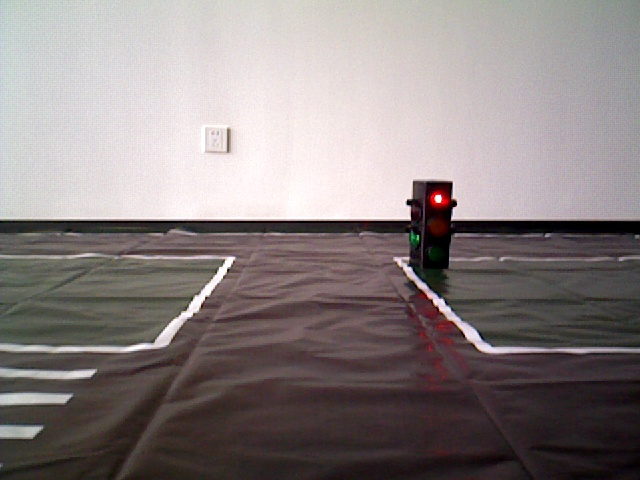red: (409, 178, 449, 271)
